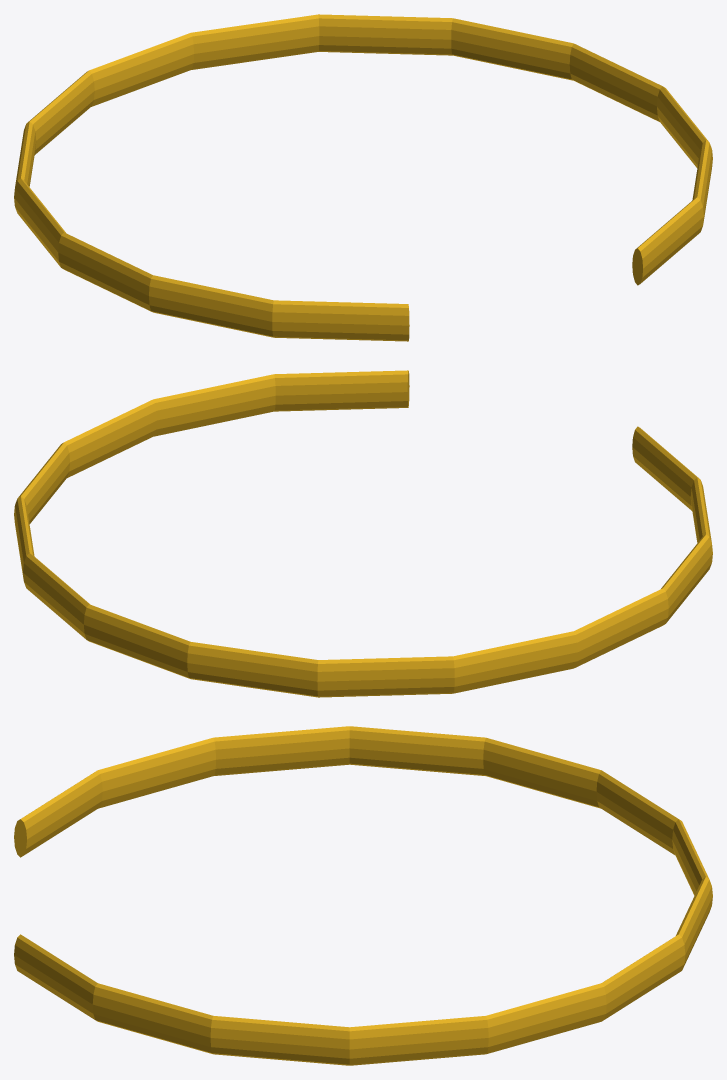
The model's file is Ring Fence.fbx.
The picture shows the model from 3 angles, top to bottom: view 1: azimuth 30°, elevation 25°; view 2: azimuth 150°, elevation 25°; view 3: azimuth 270°, elevation 25°; orthographic projection. The views are drawn at different scales.
Visible parts, largest first — view 1: RingFence; view 2: RingFence; view 3: RingFence.
Part boxes in pixels (x1,y1,x2,y2): RingFence: (14, 14, 712, 341); RingFence: (14, 370, 712, 697); RingFence: (14, 726, 712, 1065).
Bounding box in the file's own units: 1024 × 60 × 985.
